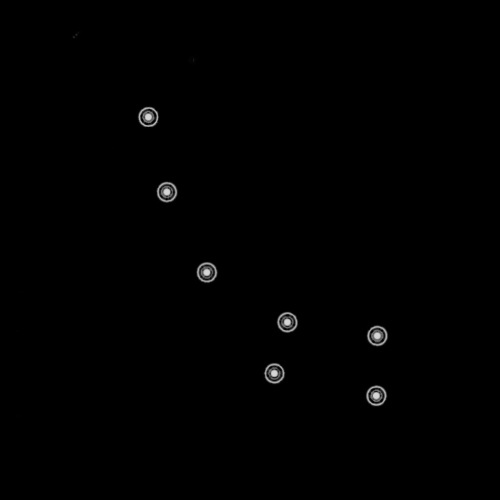ursa_minor: (132, 99, 394, 410)
